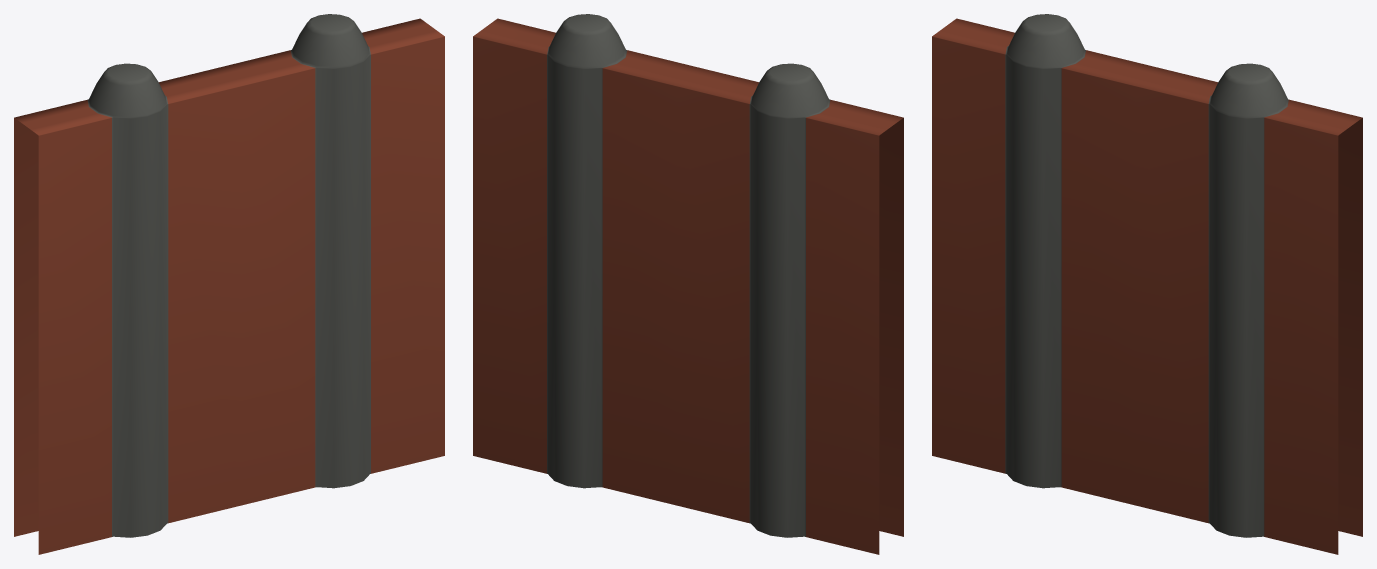
The model's file is FloodWallExtraSmall.fbx.
3 views of the same model, side by side, from view 1: azimuth 30°, elevation 25°; view 2: azimuth 150°, elevation 25°; view 3: azimuth 330°, elevation 25° (orthographic).
Parts seen in each view (by area): view 1: Cylinder.005; view 2: Cylinder.005; view 3: Cylinder.005.
Part boxes in pixels (bbox=[...]): Cylinder.005: bbox=[14, 14, 444, 554]; Cylinder.005: bbox=[473, 14, 903, 554]; Cylinder.005: bbox=[932, 14, 1362, 554].
Bounding box in the file's own units: 158 × 167 × 26.62.
